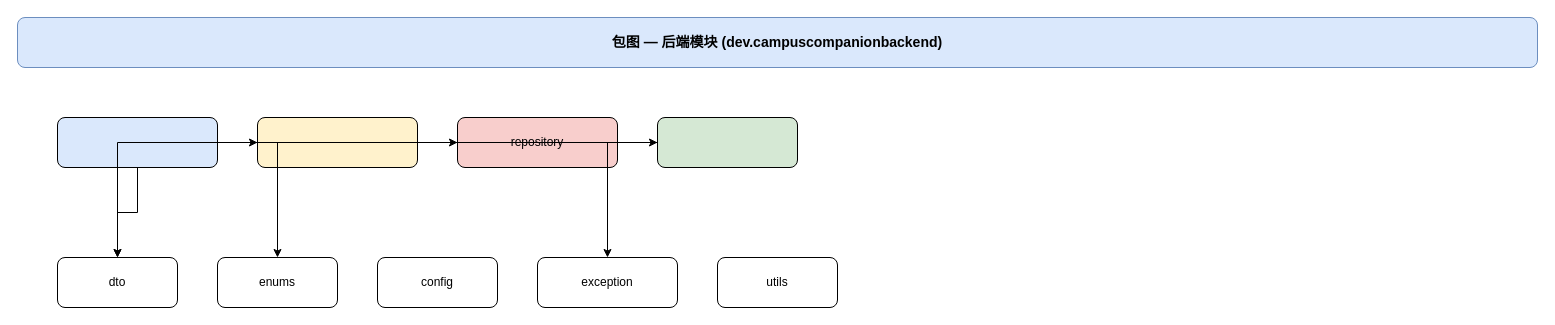
Some shapes in this 1555 by 325 pixel diagram are drawn without their labels. Each missing label, with the centre of its shape:
controller: the point at 137,142
entity: the point at 727,142
service + impl: the point at 337,142
